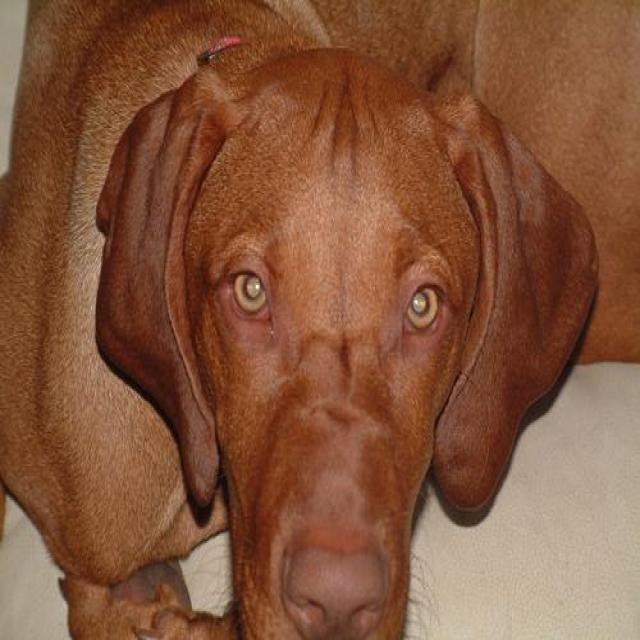vizsla: (2, 2, 638, 638)
